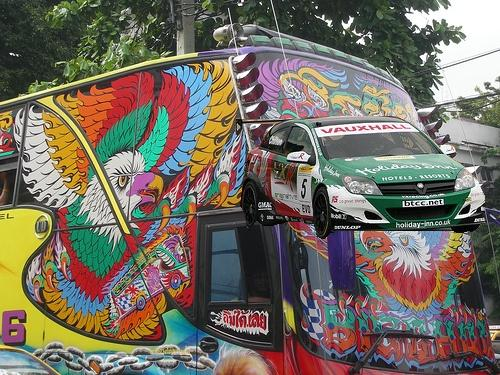tampered: (236, 117, 485, 239)
